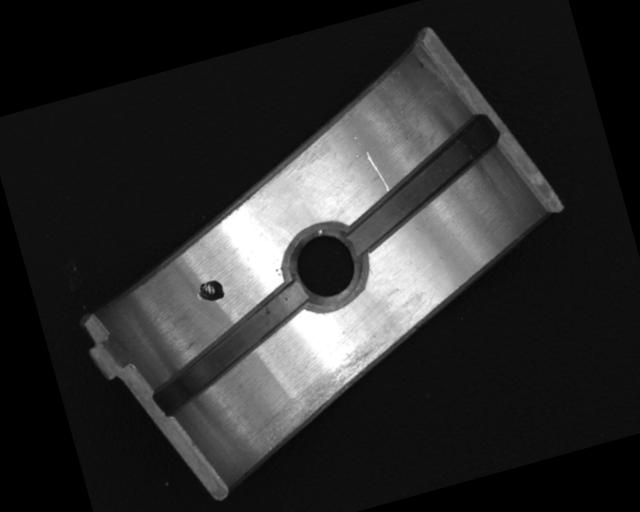blot: (193, 277, 226, 305)
gap: (328, 112, 516, 256), (135, 279, 326, 416)
hole: (277, 215, 373, 319)
nick: (364, 148, 390, 195)
scratch: (247, 335, 415, 450)
